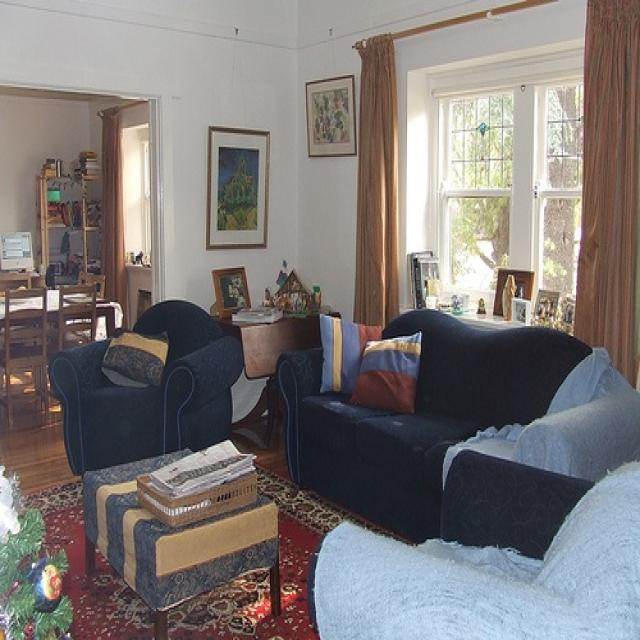chair: (312, 447, 640, 640), (51, 300, 245, 481), (4, 286, 52, 428), (60, 285, 98, 355), (75, 271, 109, 298)
sofa: (276, 307, 640, 563)
